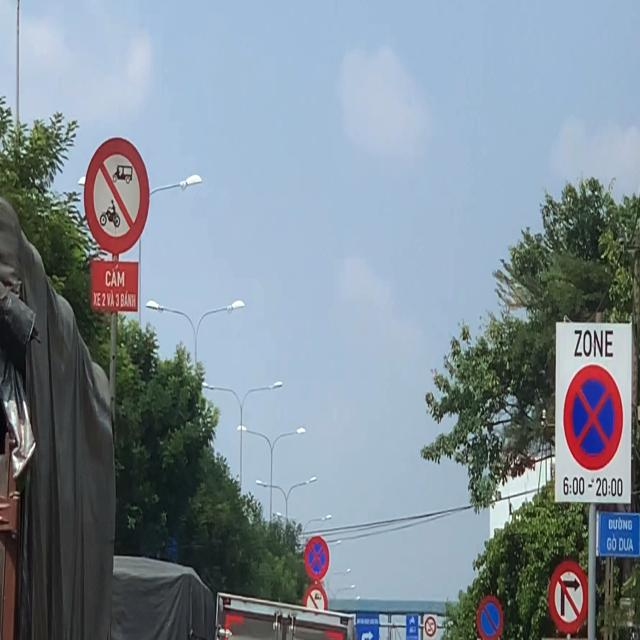Cam do: (476, 595, 504, 640)
Cam dung va do: (563, 364, 624, 471), (304, 536, 330, 581)
Cam re phai: (548, 560, 589, 634)
